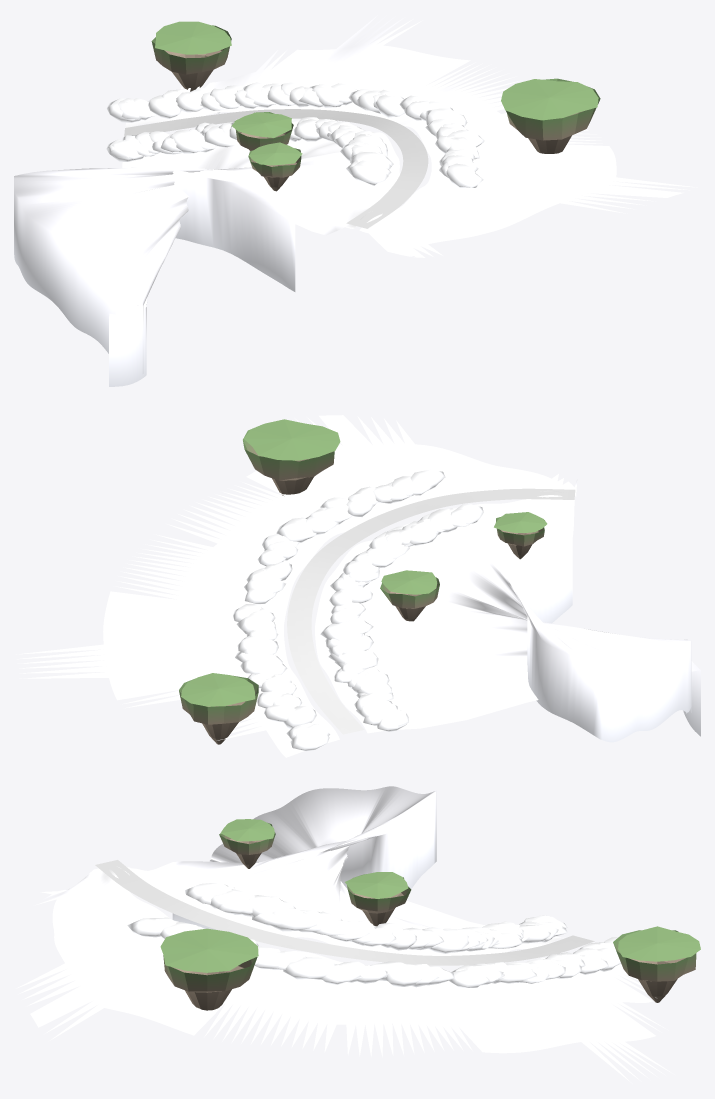
Rendered from cloud_shell.glb.
3 views of the same model, one above another, from view 1: azimuth 30°, elevation 25°; view 2: azimuth 150°, elevation 25°; view 3: azimuth 270°, elevation 25° (orthographic). The views are drawn at different scales.
Visible parts, largest first — view 1: cloud_bed, cloud_bank, cloud_isles, cloud_water; view 2: cloud_bed, cloud_bank, cloud_isles, cloud_water; view 3: cloud_bed, cloud_bank, cloud_isles, cloud_water.
Boxes of the visible parts, left/top/right/bottom form: cloud_bed: left=14, top=15, right=697, bottom=386; cloud_bank: left=106, top=82, right=484, bottom=187; cloud_isles: left=151, top=21, right=600, bottom=191; cloud_water: left=124, top=109, right=428, bottom=228; cloud_bed: left=16, top=415, right=700, bottom=757; cloud_bank: left=233, top=469, right=483, bottom=751; cloud_isles: left=179, top=419, right=547, bottom=744; cloud_water: left=287, top=488, right=575, bottom=734; cloud_bed: left=16, top=786, right=674, bottom=1083; cloud_bank: left=127, top=883, right=620, bottom=987; cloud_isles: left=160, top=819, right=700, bottom=1010; cloud_water: left=95, top=860, right=594, bottom=965.
Size of the model in its own units: 364 by 127 by 394.
